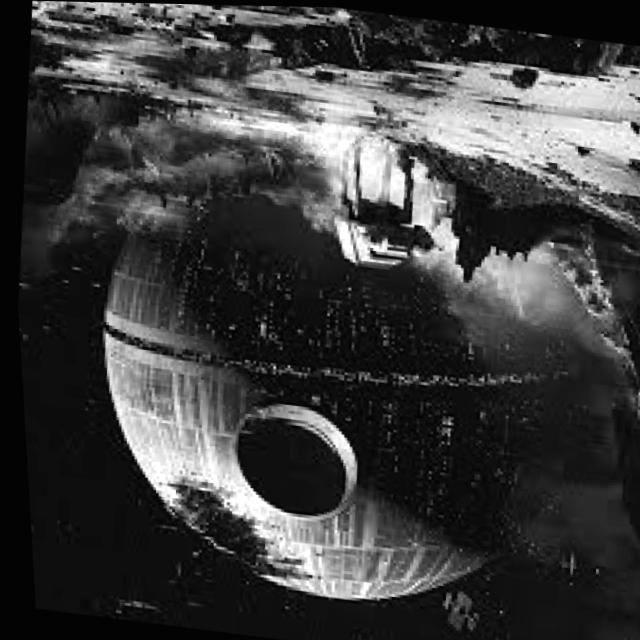death-stars: (97, 158, 574, 597)
